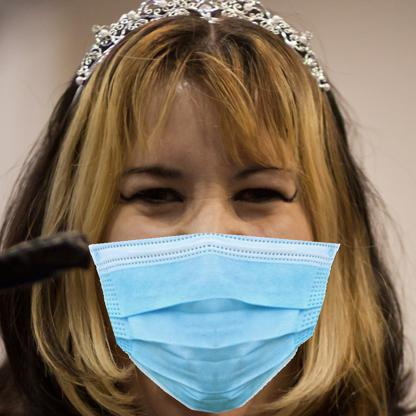mask: (83, 231, 344, 415)
